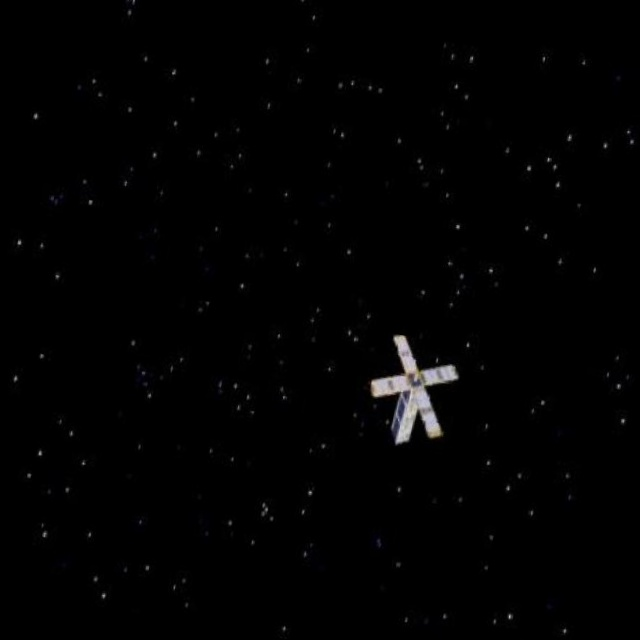satellite: (365, 332, 482, 450)
